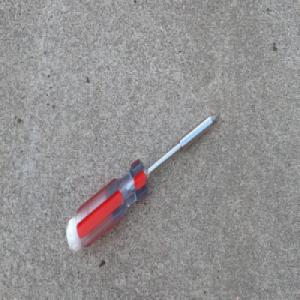Screwdriver: (64, 109, 221, 253)
